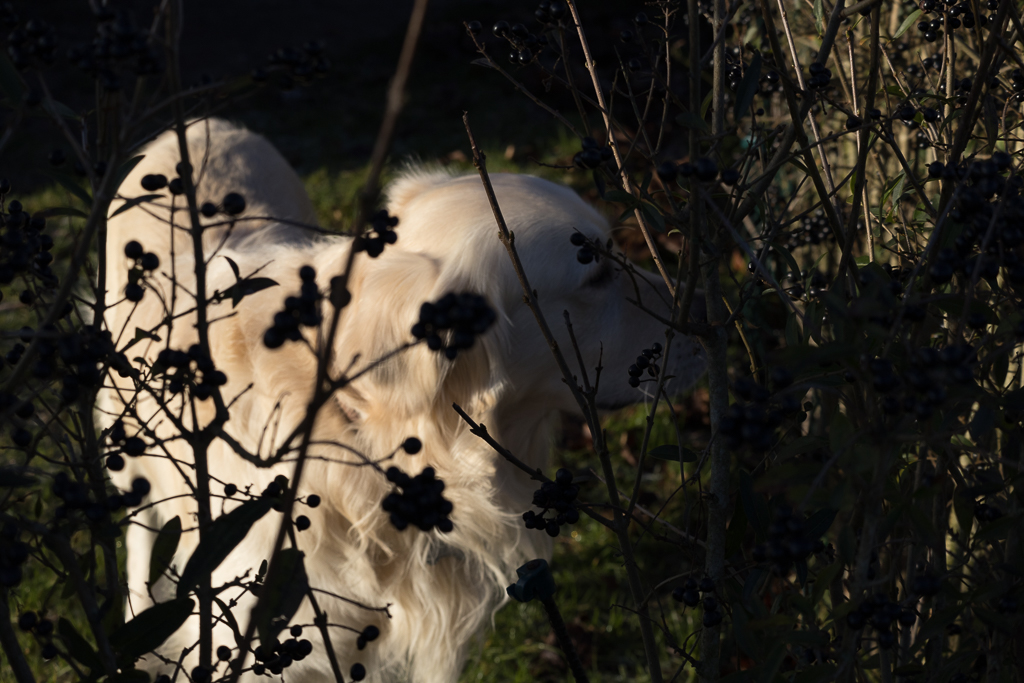Dog: (77, 91, 760, 683)
